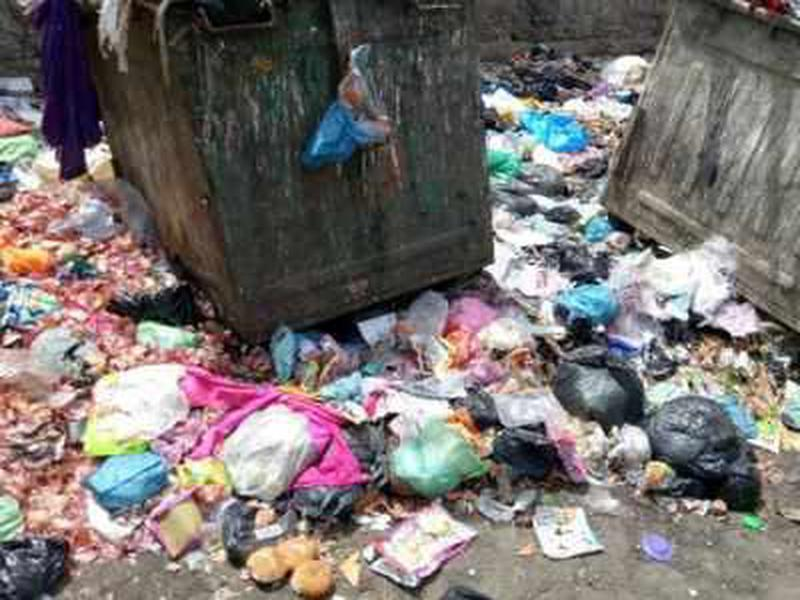paper: (366, 506, 479, 591), (526, 505, 615, 565)
plastic: (636, 232, 764, 343), (646, 393, 762, 514), (222, 401, 318, 503), (385, 409, 489, 494), (552, 340, 650, 427), (88, 358, 192, 437), (104, 262, 203, 333), (80, 451, 179, 514), (1, 524, 77, 600), (515, 100, 591, 154), (550, 282, 626, 335)
